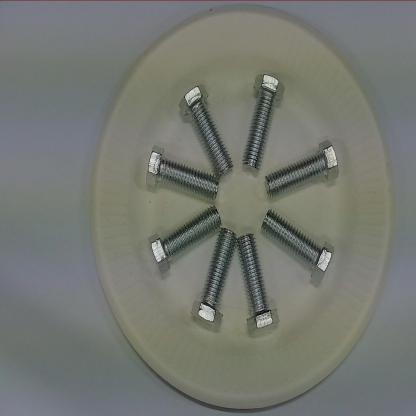FOD: (144, 72, 341, 333)
